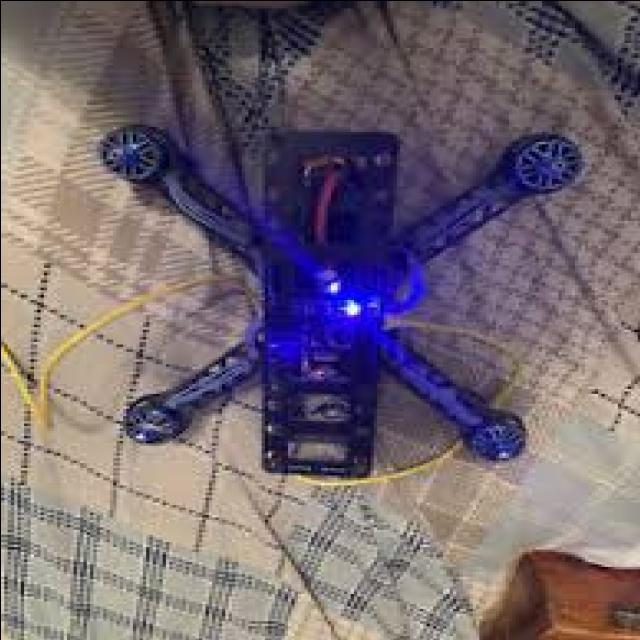drone: (85, 70, 574, 520)
